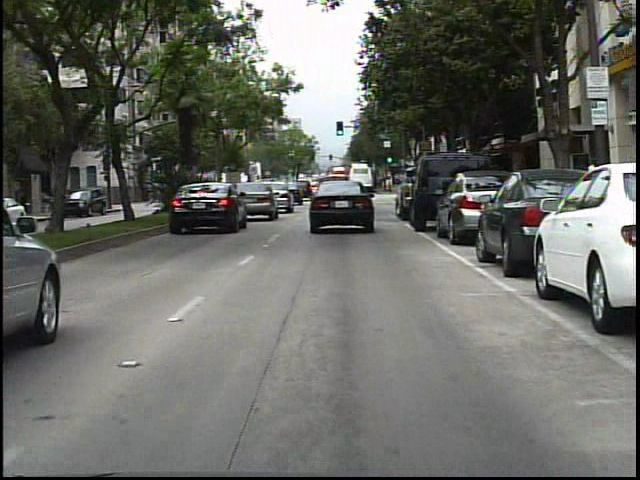person: (584, 153, 608, 224)
